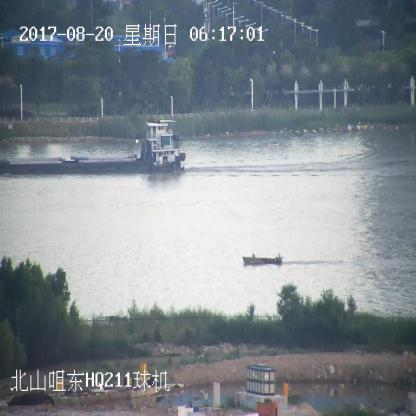Fishing Boat: (242, 254, 282, 266)
